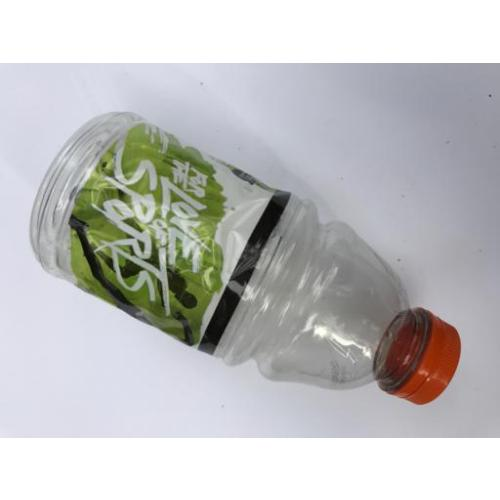plastic: (29, 112, 461, 405)
